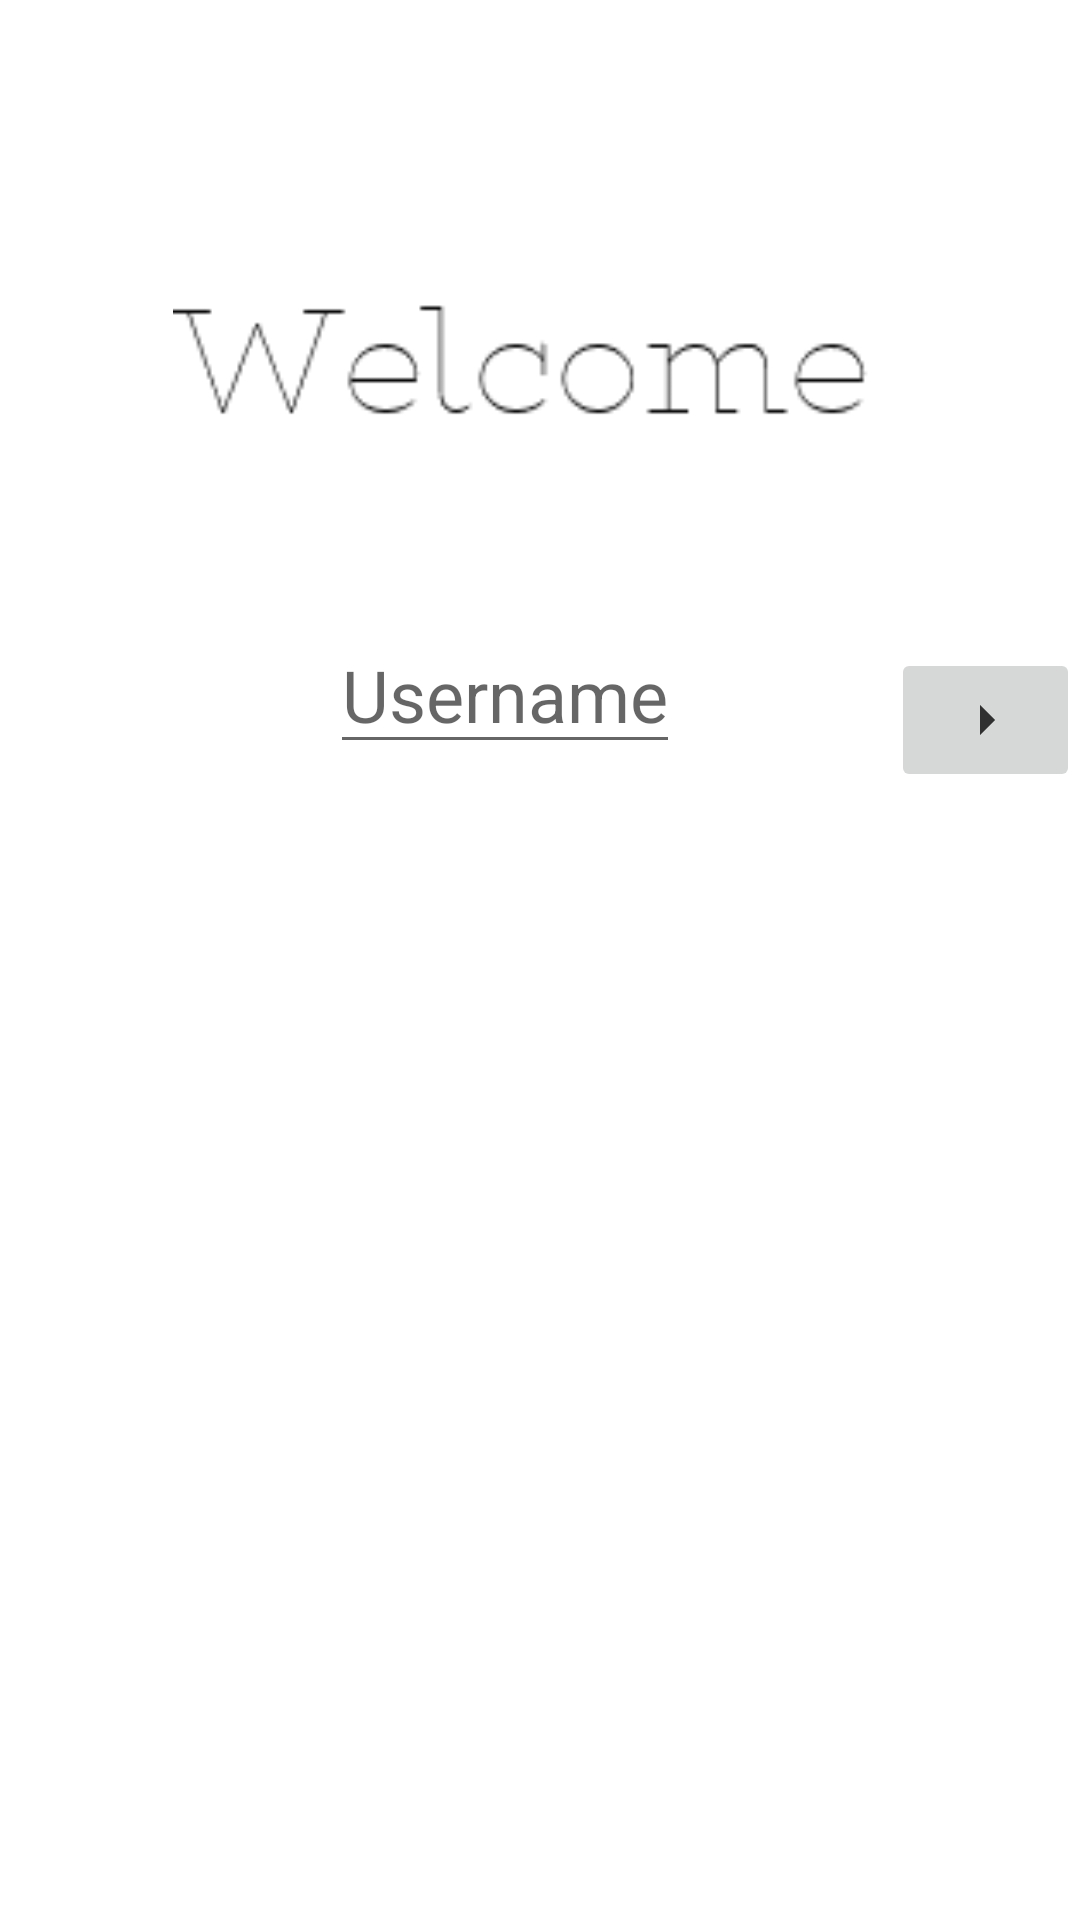

Icons on this 1080×1920 Android screen, each with its box as (x1, y1, x2, y2):
Enter: (903, 666, 1068, 774)
